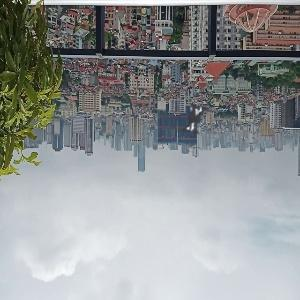drone: (149, 76, 236, 163)
